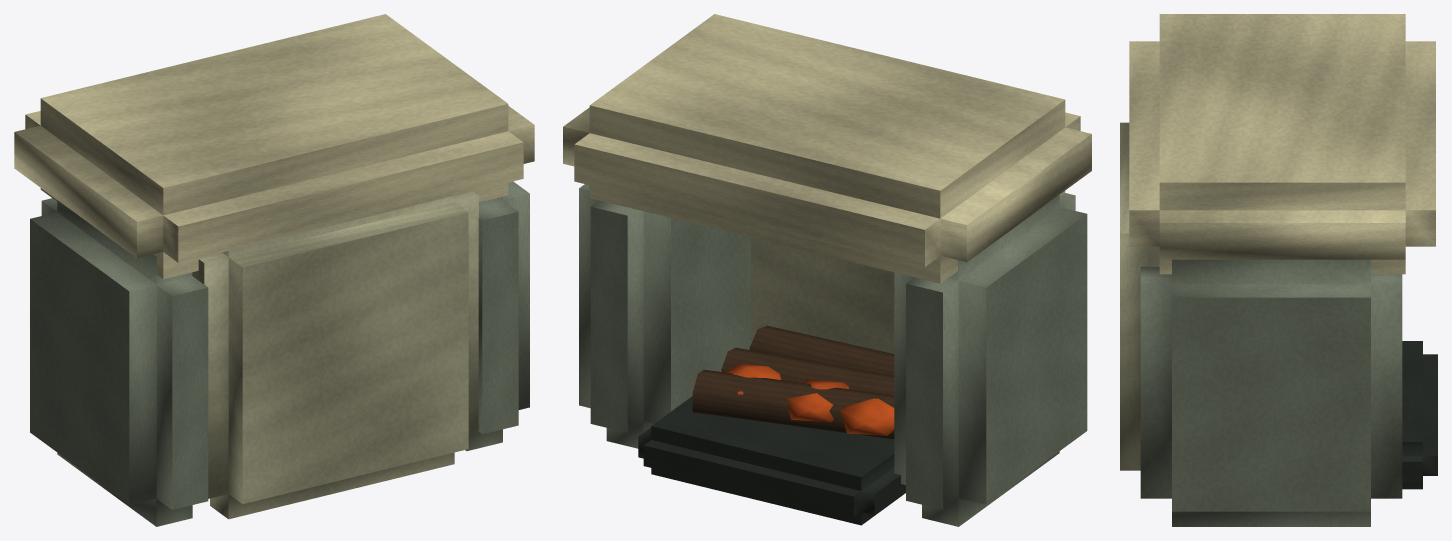
File: hearth-0.fbx
3 views of the same model, side by side, from view 1: azimuth 30°, elevation 25°; view 2: azimuth 150°, elevation 25°; view 3: azimuth 270°, elevation 25° (orthographic).
Visible parts, largest first — view 1: hearth-0__Geometry; view 2: hearth-0__Geometry; view 3: hearth-0__Geometry.
Boxes of the visible parts, bbox=[...] form: hearth-0__Geometry: bbox=[14, 14, 534, 526]; hearth-0__Geometry: bbox=[563, 14, 1091, 526]; hearth-0__Geometry: bbox=[1120, 14, 1437, 526].
Size of the model in its own units: 1.24 by 1.01 by 0.85.
